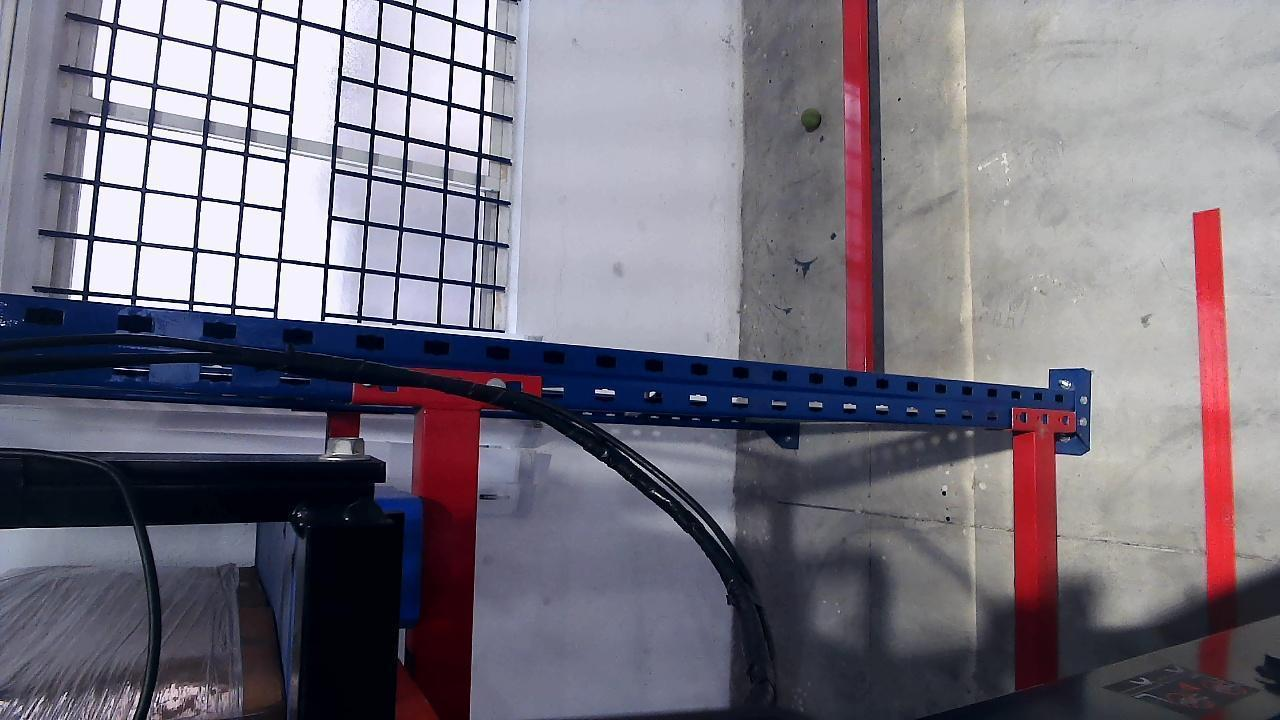red_line: (1192, 208, 1237, 592)
